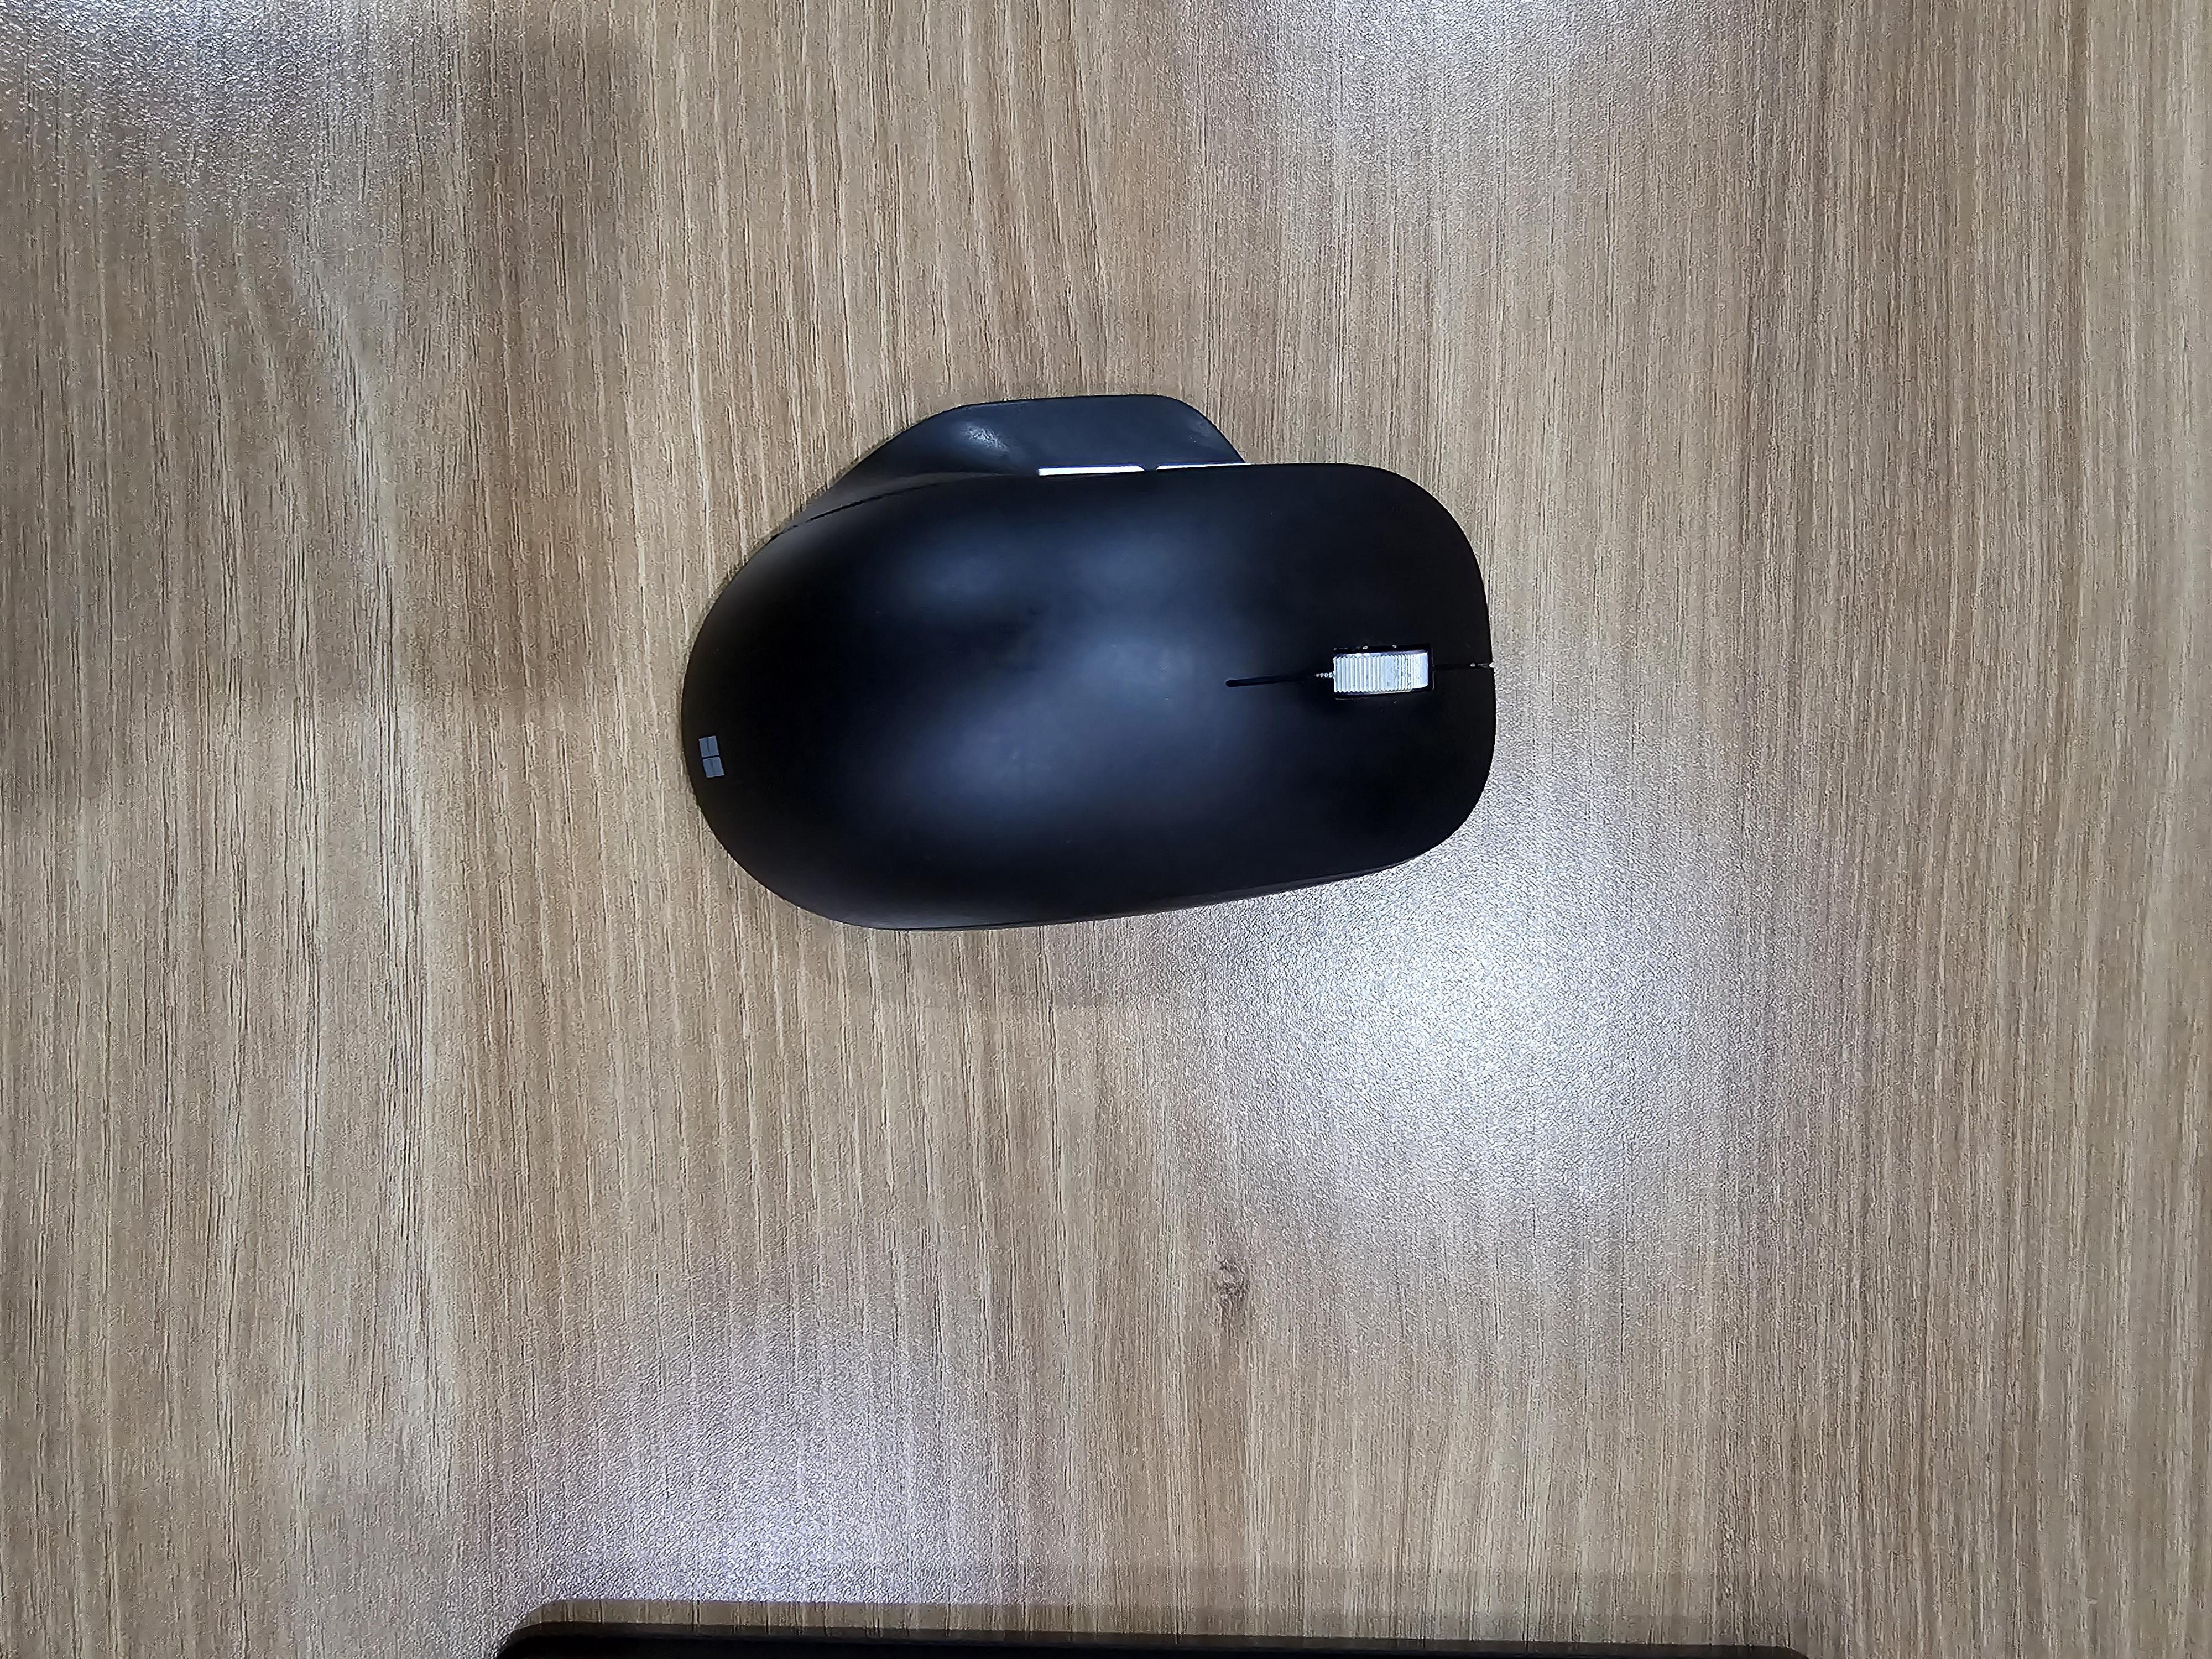mouse: (676, 389, 1498, 932)
